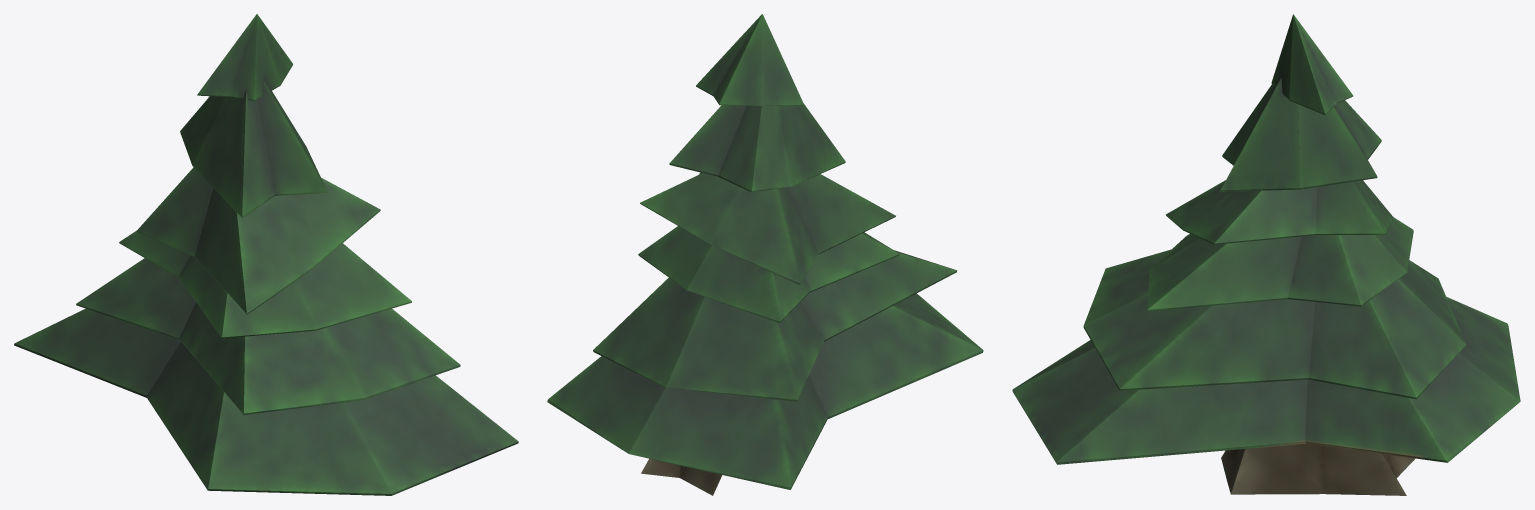
Rendered from GJ_Decor_Exterior_Tree_05.fbx.
3 renders of one model, left to right at view 1: azimuth 30°, elevation 25°; view 2: azimuth 150°, elevation 25°; view 3: azimuth 270°, elevation 25°, orthographic. The views are drawn at different scales.
Visible parts, largest first — view 1: GJ_Decor_Exterior_Tree_05; view 2: GJ_Decor_Exterior_Tree_05; view 3: GJ_Decor_Exterior_Tree_05.
Boxes of the visible parts, box(x1,y1,x2,y2) form: GJ_Decor_Exterior_Tree_05: box(14, 14, 518, 495); GJ_Decor_Exterior_Tree_05: box(547, 14, 983, 495); GJ_Decor_Exterior_Tree_05: box(1012, 14, 1520, 495).
Bounding box in the file's own units: 5.98 × 9.06 × 9.31.
1 material, 1 textured.
